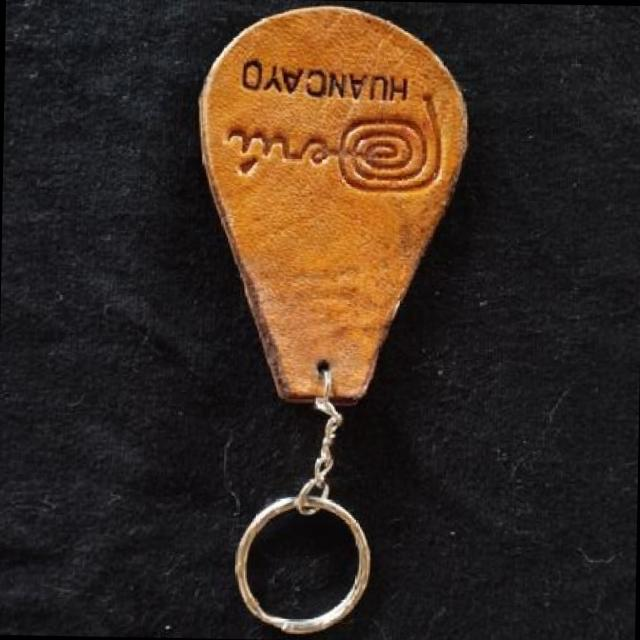Llavero: (190, 2, 472, 410)
